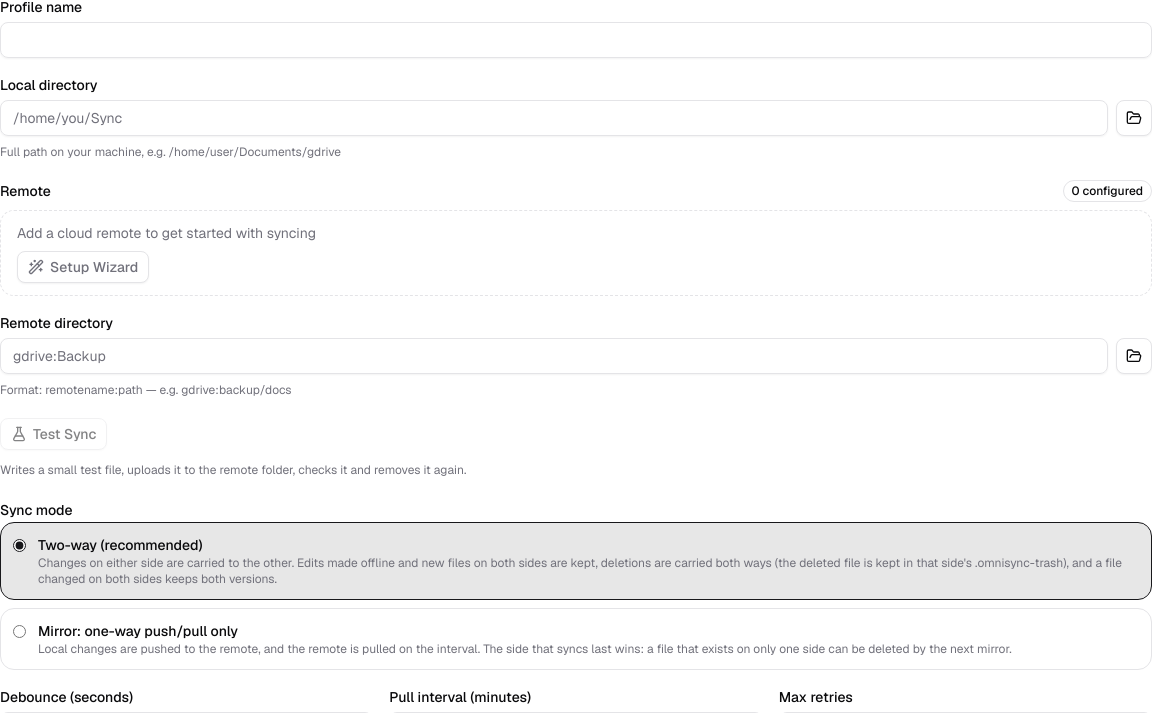
Scenario: ProfileForm test sync and remote setup › offers the setup wizard when no remote exists, without submitting the form
What coordinates should you click on to do the following:
click the button "Setup Wizard"
I would click on:
 (83, 267)
Its box is [17,251,149,283].
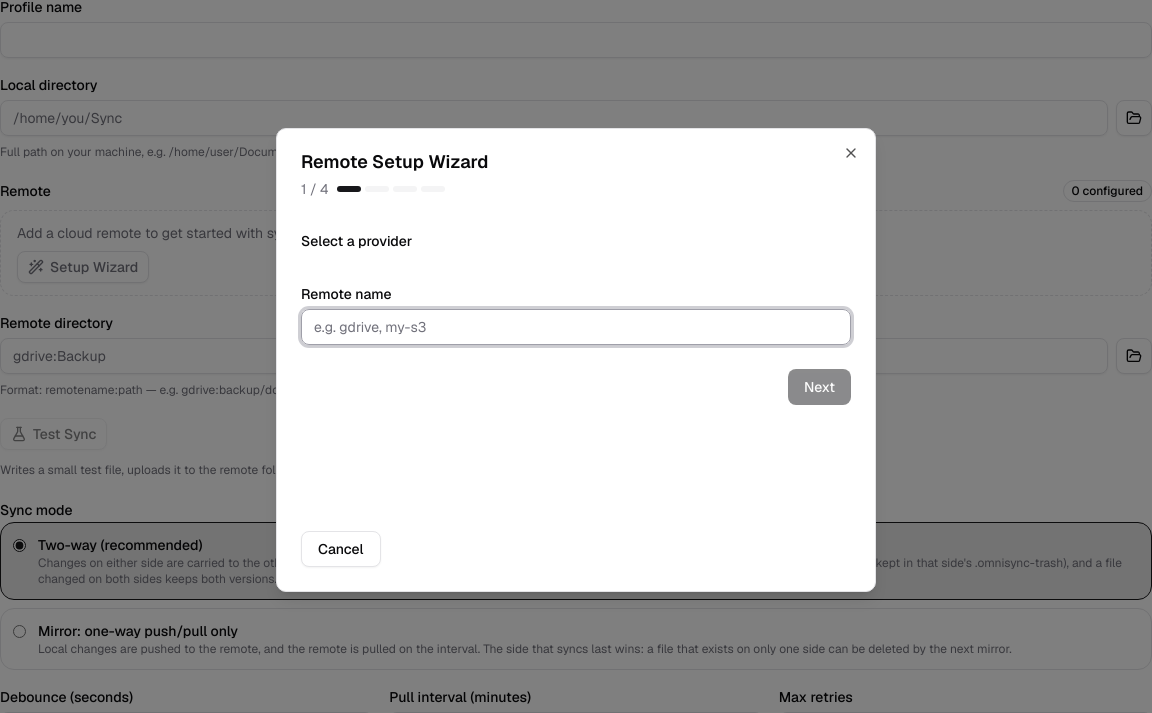
Result: the dialog is shown at [276,128,876,592]
